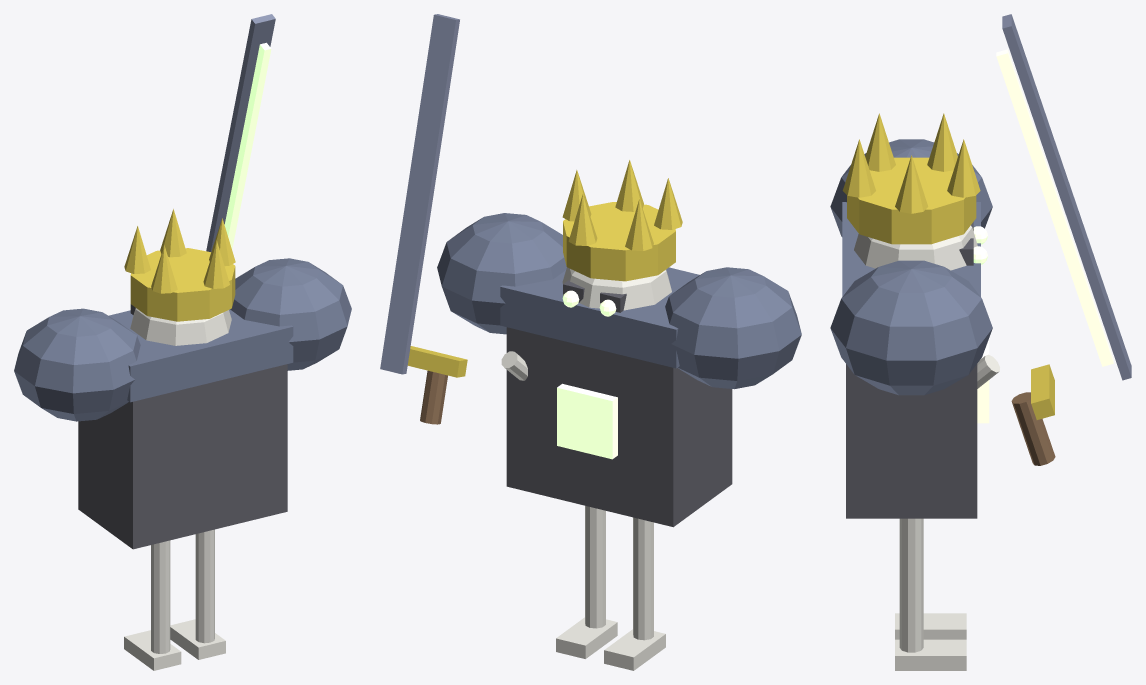
File: skeleton_king.glb
3 renders of one model, left to right at view 1: azimuth 30°, elevation 25°; view 2: azimuth 150°, elevation 25°; view 3: azimuth 270°, elevation 25°, orthographic. The views are drawn at different scales.
Parts seen in each view (by area): view 1: skeleton_king; view 2: skeleton_king; view 3: skeleton_king.
Part boxes in pixels (x1,y1,x2,y2): skeleton_king: [14, 14, 351, 670]; skeleton_king: [380, 14, 801, 670]; skeleton_king: [830, 14, 1131, 670].
Bounding box in the file's own units: 2.31 × 4.04 × 1.58.
